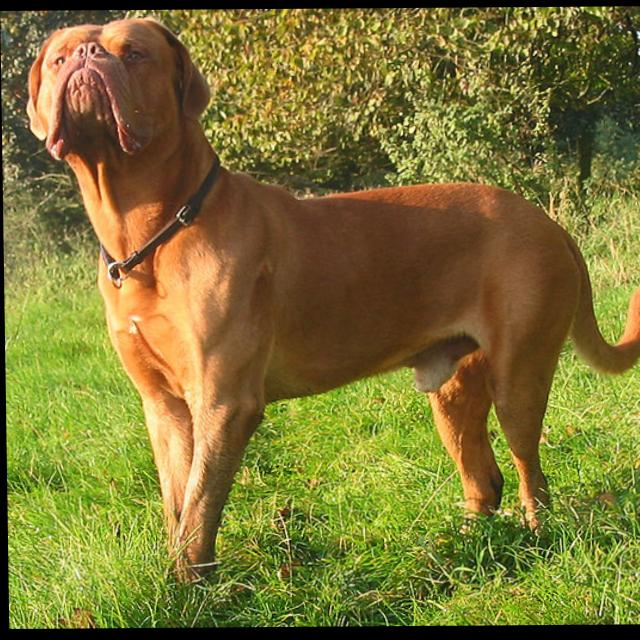dogue_de_bordeaux: (24, 14, 640, 588)
